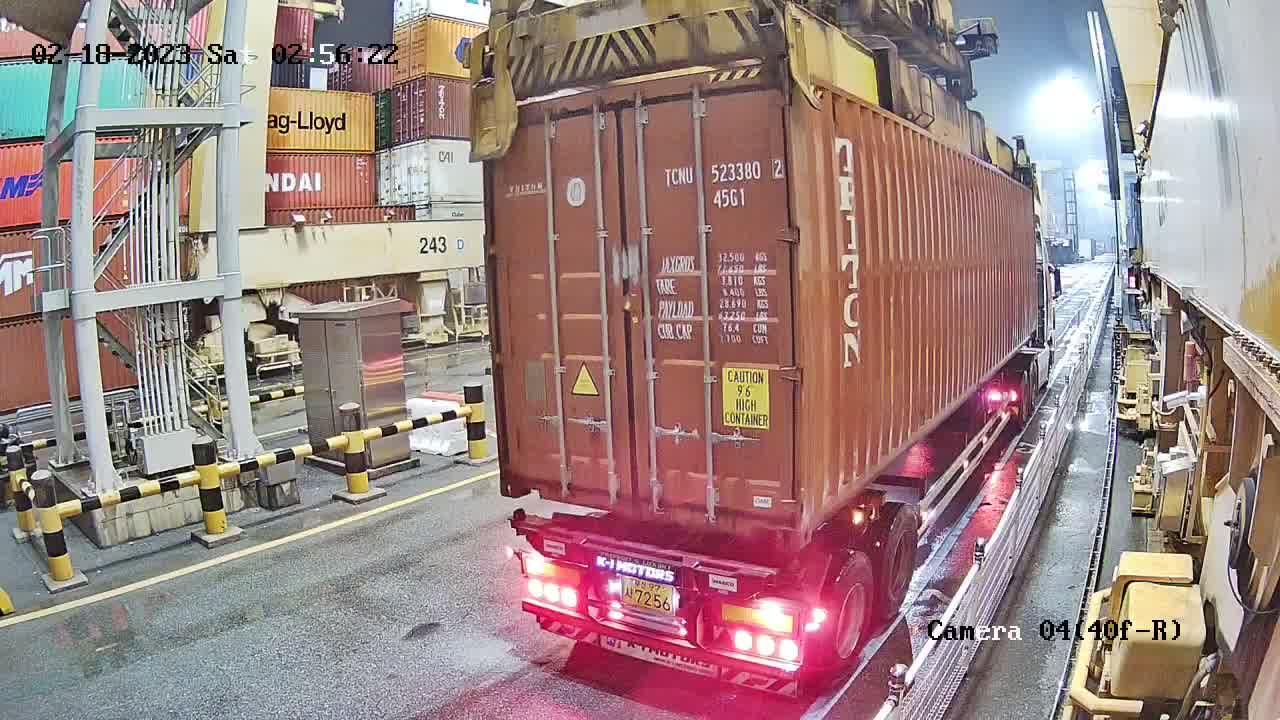Chassis: (513, 512, 792, 598)
Cone: (777, 558, 801, 592), (509, 507, 527, 537)
Hole_L: (800, 484, 830, 551), (498, 456, 542, 498)
Hole_R: (744, 495, 799, 551)
Tire: (819, 556, 875, 677), (880, 505, 918, 613)
